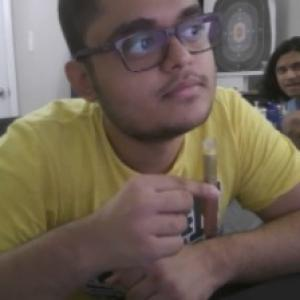Golden-E-Ciggirate: (200, 135, 225, 241)
